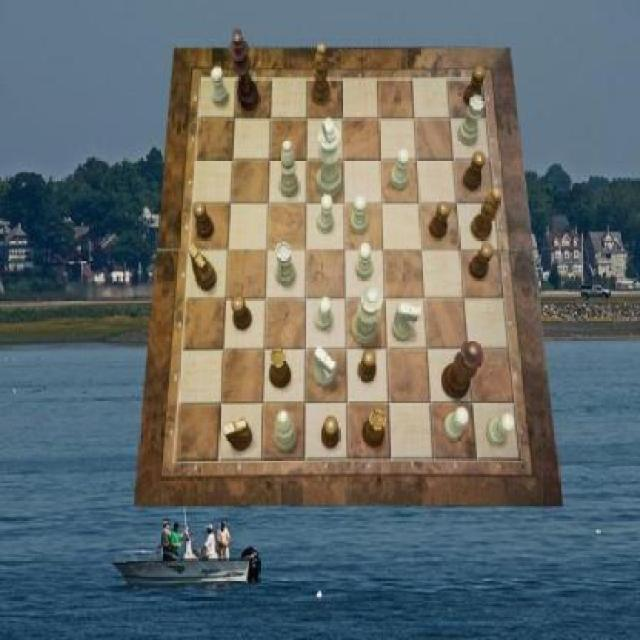bishop: (471, 188, 502, 242), (313, 44, 332, 104)
black-bishop: (229, 29, 259, 112)
black-king: (188, 245, 217, 292), (222, 418, 252, 452)
black-knight: (463, 151, 486, 191), (469, 244, 494, 280), (463, 68, 485, 108), (429, 202, 450, 239), (194, 202, 214, 239), (232, 296, 252, 332), (322, 417, 341, 451), (359, 349, 376, 384)
black-pawn: (442, 340, 484, 400)
black-queen: (363, 409, 388, 448), (269, 348, 292, 389)
black-rook: (280, 140, 300, 198), (274, 411, 297, 451)
white-bishop: (317, 117, 341, 198)
white-king: (392, 303, 420, 341), (314, 348, 337, 388)
white-knight: (486, 414, 516, 446), (443, 408, 469, 442), (391, 149, 410, 191), (211, 66, 228, 106), (314, 297, 333, 331), (317, 194, 334, 232), (351, 197, 368, 235), (357, 242, 374, 279)
white-pawn: (351, 286, 383, 345)
white-queen: (458, 96, 486, 146), (276, 241, 296, 287)
